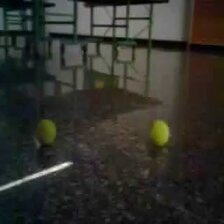tennis: (37, 119, 58, 146), (150, 120, 170, 146)
